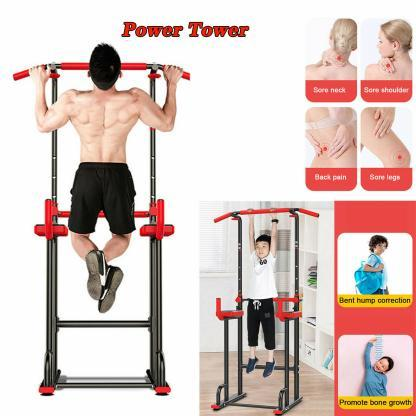chinning dipping: (12, 63, 190, 397)
